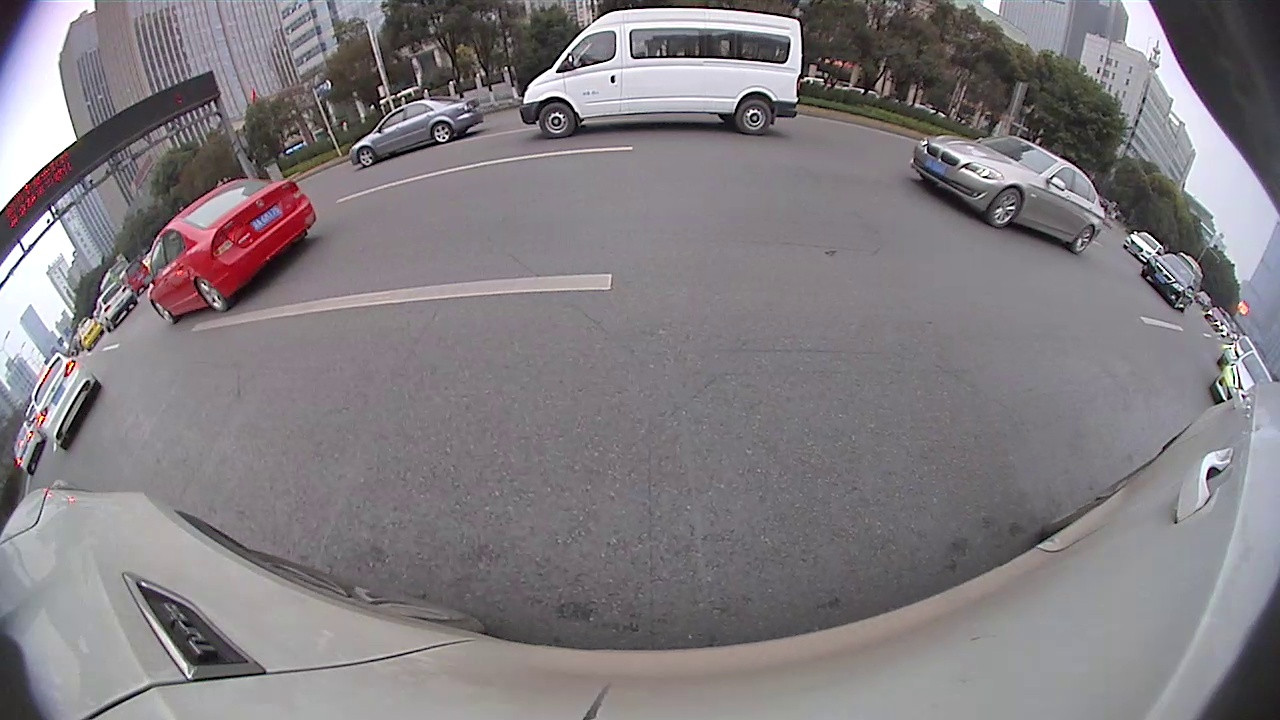car: (522, 8, 799, 138), (151, 180, 319, 321), (911, 135, 1103, 258), (349, 98, 483, 169), (27, 351, 100, 449), (1139, 253, 1200, 310), (1207, 353, 1274, 403)
front: (537, 100, 577, 141), (988, 187, 1024, 227), (150, 300, 176, 326), (357, 146, 376, 168)
rear: (736, 99, 775, 137), (192, 276, 230, 314), (1072, 224, 1095, 256), (430, 120, 454, 144)
